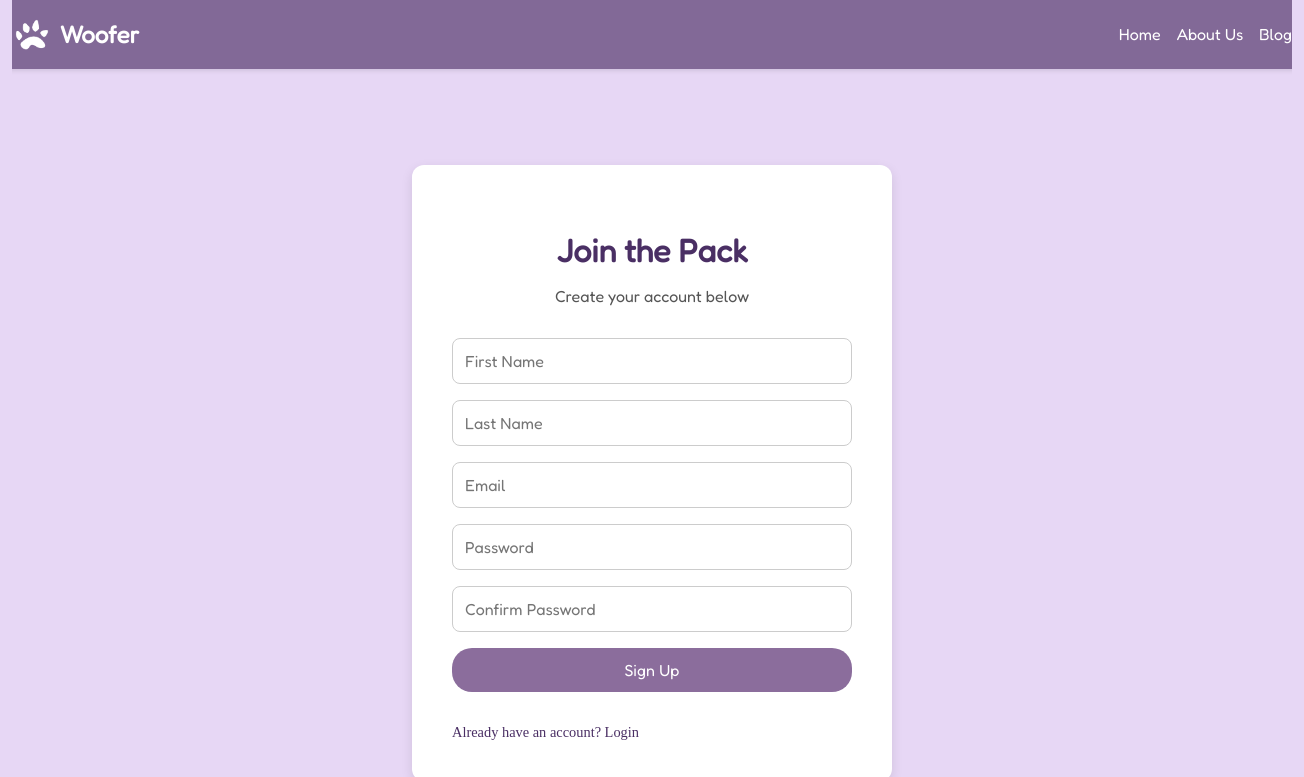
it: Signup form › displays error if passwords do not match
Type "pass" into the password field with placeholder "Password". click: (652, 547)
box: [452,524,852,570]
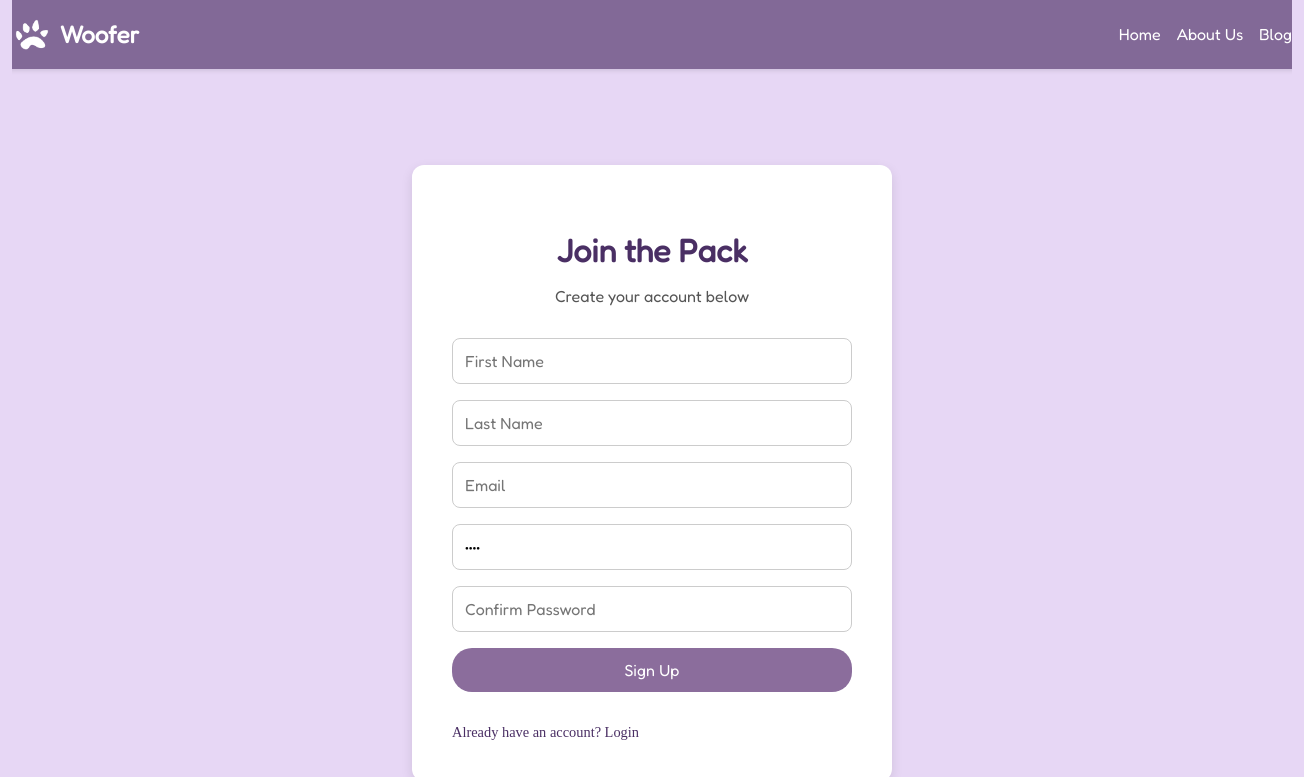
Type "pass123" into the password field with placeholder "Confirm Password". click: (652, 609)
box: [452,586,852,632]
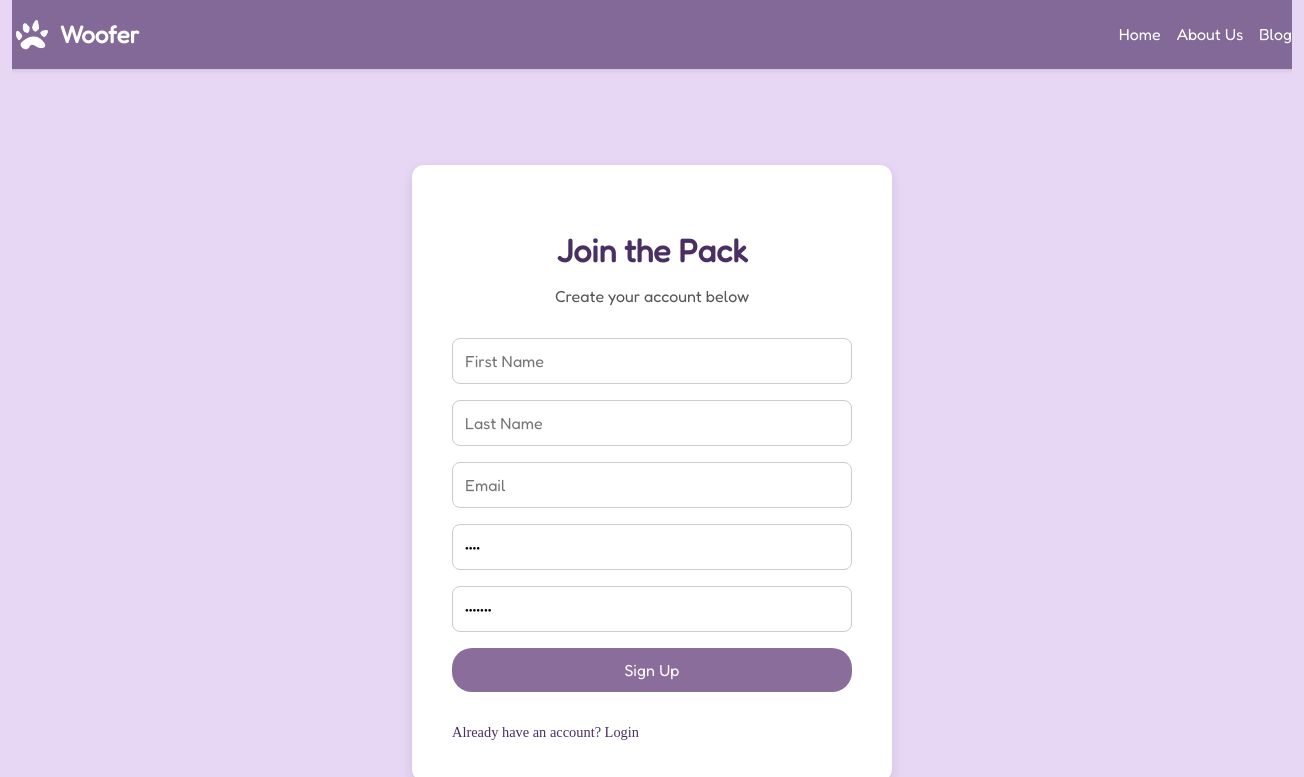
Click the button "Sign Up". click: (652, 670)
box: [452,648,852,692]
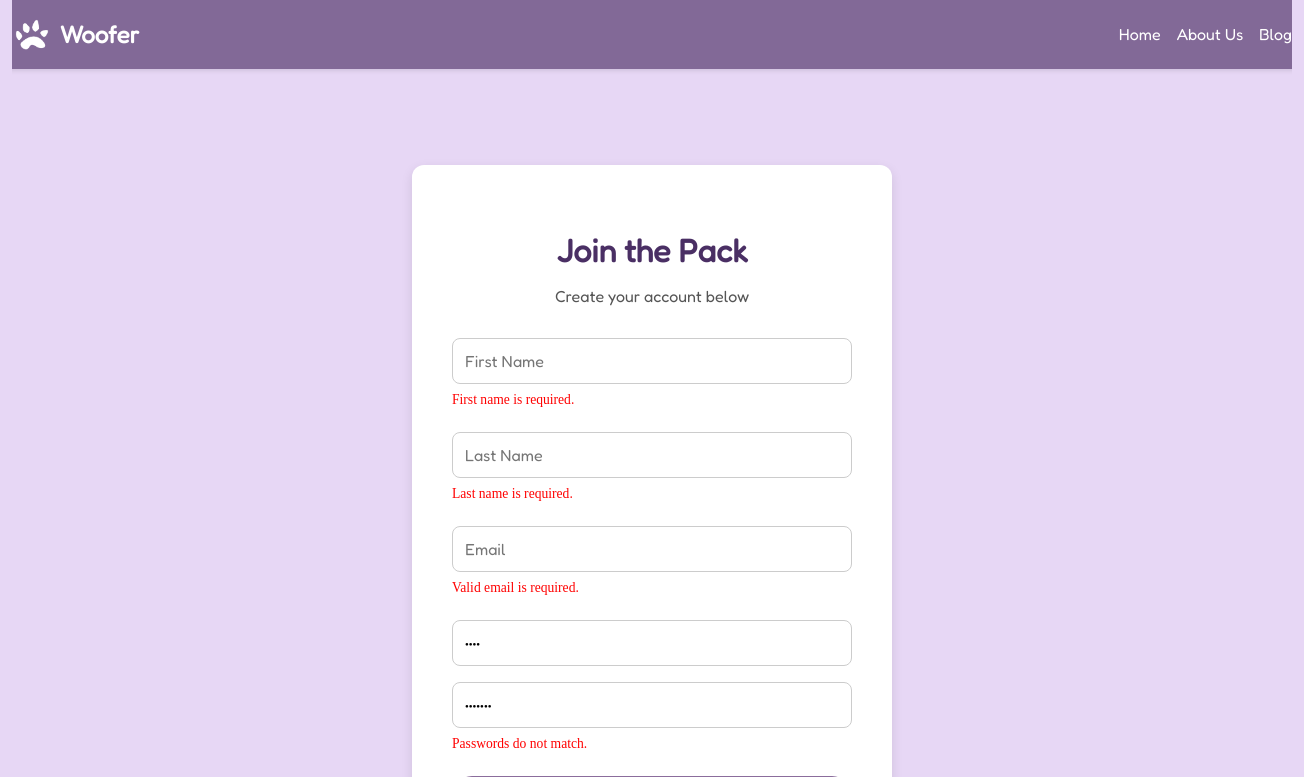
Expected: the text "Passwords do not match." is shown, [452,736,587,751]
